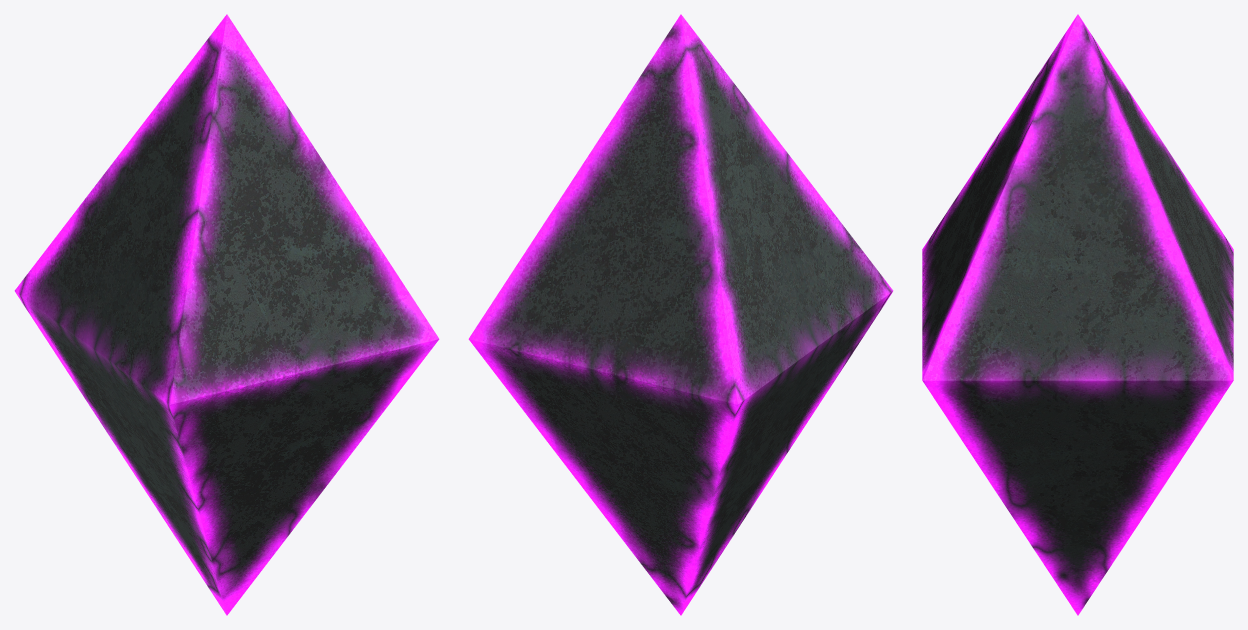
The model's file is WarpCoreObject.fbx.
The picture shows the model from 3 angles, left to right: view 1: azimuth 30°, elevation 25°; view 2: azimuth 150°, elevation 25°; view 3: azimuth 270°, elevation 25°; orthographic projection.
Visible parts, largest first — view 1: Cube.614; view 2: Cube.614; view 3: Cube.614.
Boxes of the visible parts, x1,y1,x2,y2 form: Cube.614: (14, 14, 439, 615); Cube.614: (468, 14, 893, 615); Cube.614: (922, 14, 1233, 615).
Size of the model in its own units: 144 by 308 by 144.
Materials: 1 (1 with a texture image).
